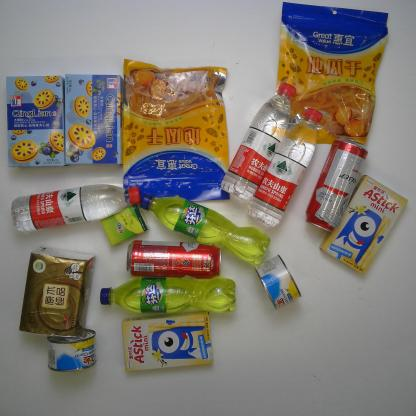Alcohol: (310, 140, 369, 230), (126, 238, 222, 278)
Canned Food: (255, 254, 303, 312), (45, 329, 97, 372)
Dessert: (319, 177, 405, 280), (63, 72, 124, 170), (5, 73, 66, 169), (122, 312, 214, 374)
Dried Fruit: (120, 57, 232, 209), (274, 3, 390, 145)
Drink: (138, 189, 270, 267), (220, 82, 296, 204), (248, 108, 323, 227), (12, 180, 142, 237), (100, 273, 242, 322)
Tissue: (18, 252, 99, 339), (102, 202, 150, 247)
